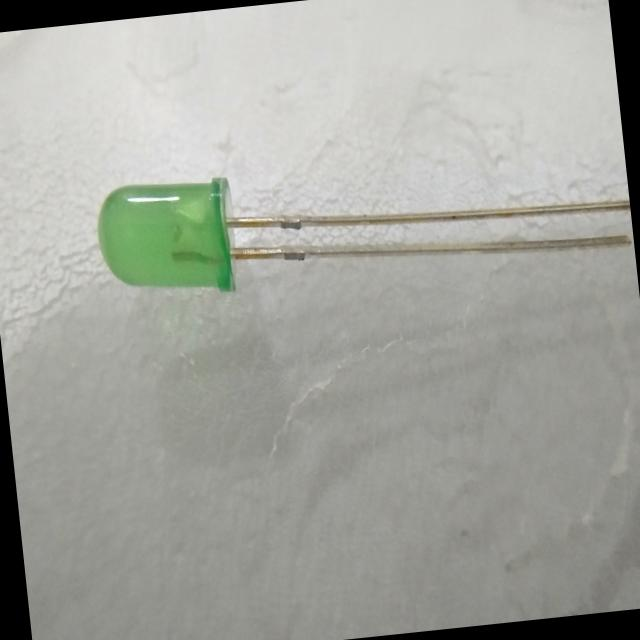green_led: (81, 158, 252, 316)
